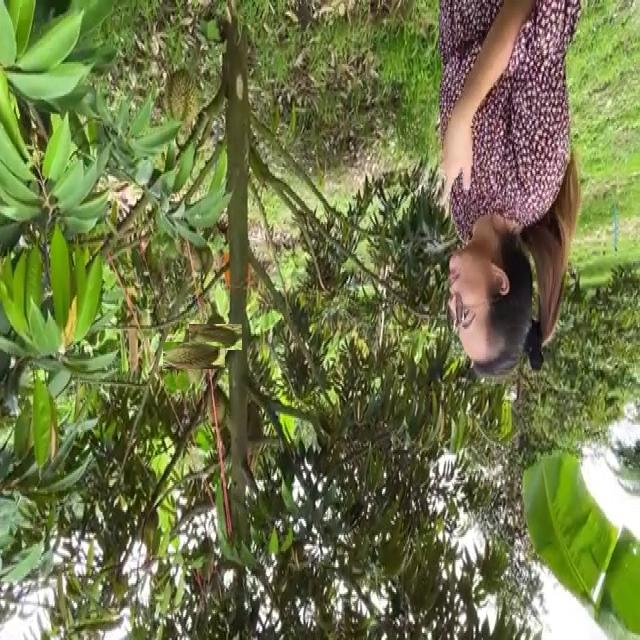durian: (161, 67, 201, 133), (172, 333, 217, 378), (196, 317, 236, 357), (206, 381, 229, 430)
